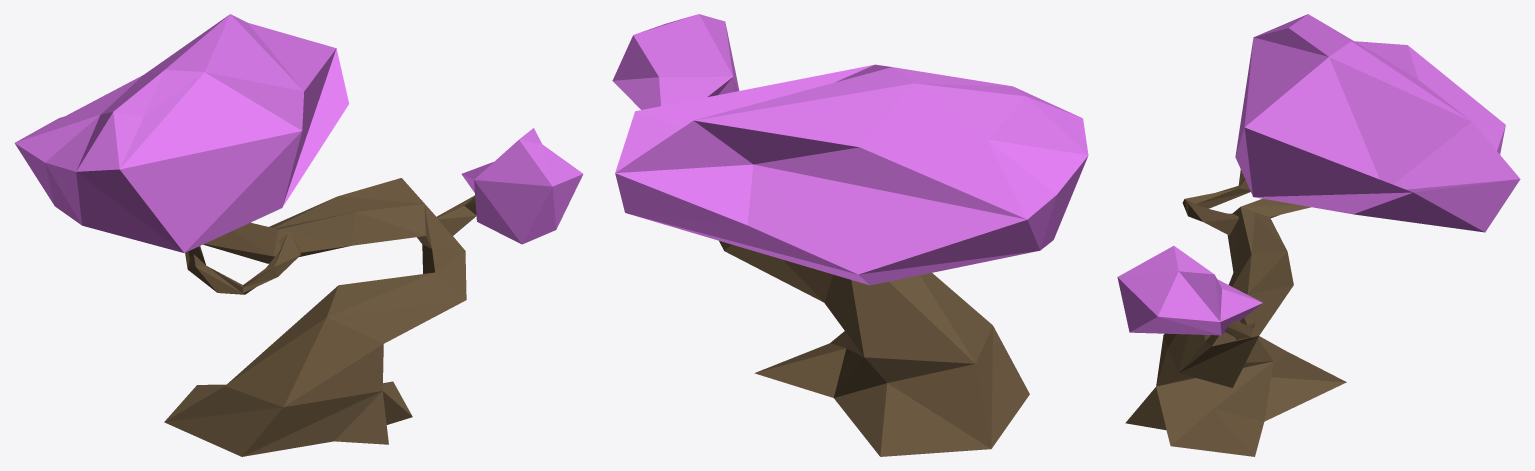
The model's file is Cerisier.FBX.
3 renders of one model, left to right at view 1: azimuth 30°, elevation 25°; view 2: azimuth 150°, elevation 25°; view 3: azimuth 270°, elevation 25°, orthographic. The views are drawn at different scales.
Visible parts, largest first — view 1: Cerisier1; view 2: Cerisier1; view 3: Cerisier1.
Part boxes in pixels (box(x1,y1,x2,y2)): Cerisier1: box(14, 14, 583, 456); Cerisier1: box(612, 14, 1088, 456); Cerisier1: box(1117, 14, 1520, 456).
Bounding box in the file's own units: 6.54 × 4.5 × 5.04.
